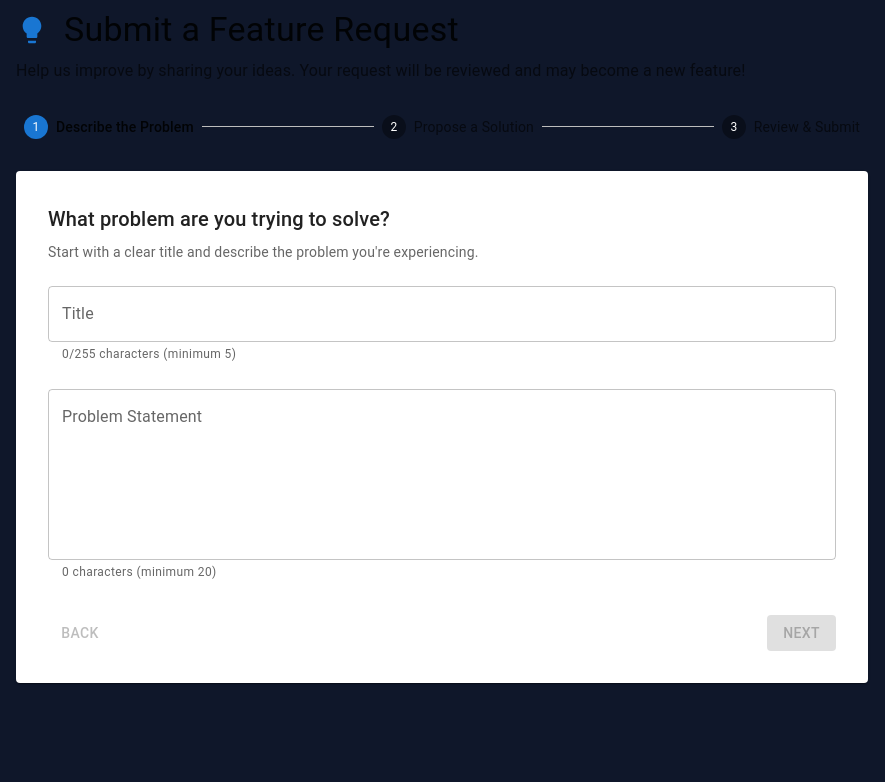
Test: SubmitFeatureRequest › Step 2 - Proposed Solution › navigates to step 2 when Next is clicked
In the field labelled "Title": (442, 314) [48,286,836,342], type "Add dark mode support"
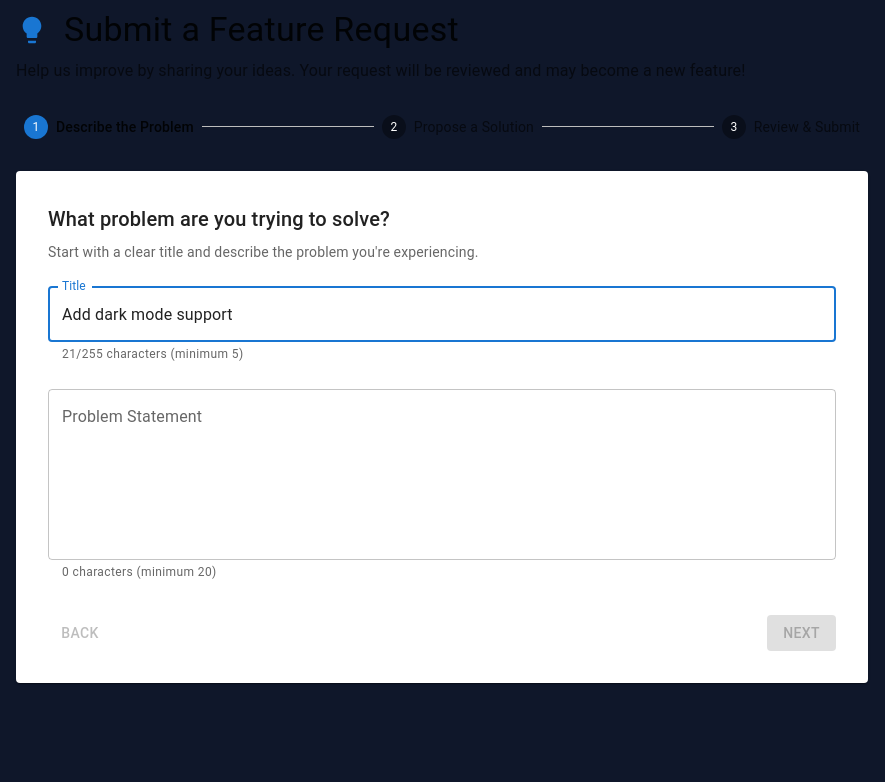
In the text box labelled "Problem Statement": (442, 474) [62,405,822,543], type "Users are experiencing eye strain when using the application."
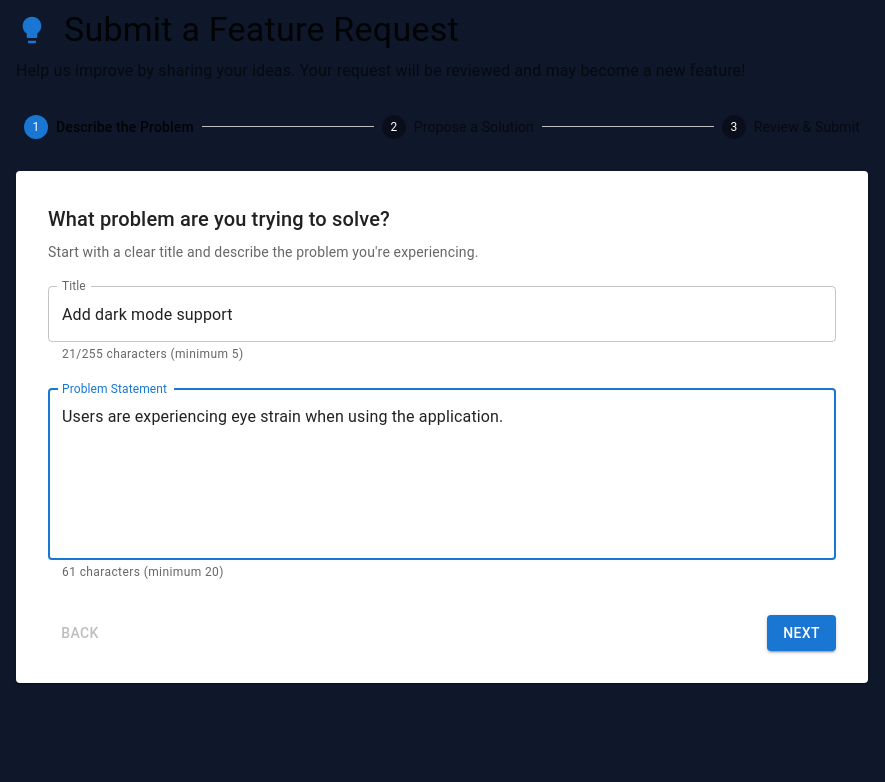
Click the button "Next": (802, 633) [767,615,836,651]
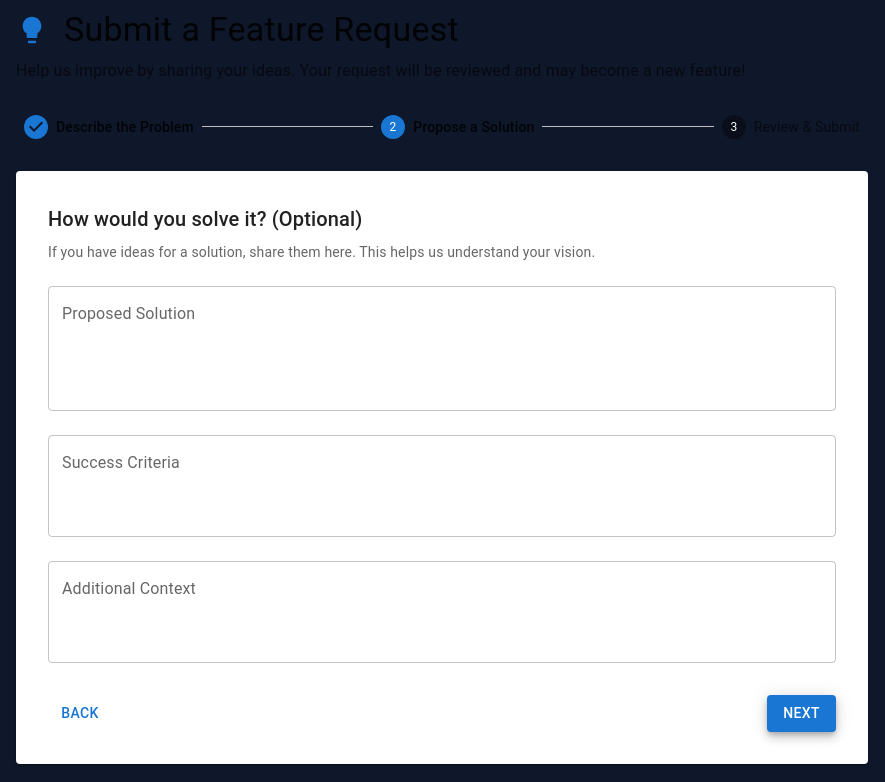
Now the heading "How would you solve it? (Optional)" is shown, box [48,207,362,231]
Now the text box labelled "Proposed Solution" is shown, box [62,302,822,394]
Now the text box labelled "Success Criteria" is shown, box [62,452,822,520]
